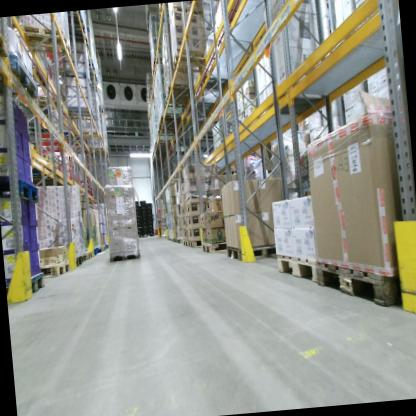pallet: (314, 247, 401, 315), (0, 47, 45, 107), (227, 231, 292, 264), (17, 21, 73, 59), (274, 250, 318, 292), (0, 173, 39, 206), (169, 45, 208, 75), (6, 272, 46, 299), (166, 2, 204, 25), (33, 259, 70, 280), (201, 233, 233, 257), (65, 102, 96, 123), (162, 89, 194, 108), (166, 79, 193, 100), (107, 248, 142, 264), (69, 22, 90, 46), (0, 19, 10, 60), (66, 10, 87, 29), (159, 110, 183, 126), (80, 127, 104, 142), (188, 237, 204, 249), (73, 255, 83, 269), (86, 58, 95, 71), (181, 236, 189, 249), (80, 249, 87, 262), (85, 249, 92, 262), (143, 232, 155, 239), (98, 245, 105, 253), (177, 236, 183, 245), (172, 236, 177, 244), (138, 232, 143, 240), (93, 249, 97, 258)
